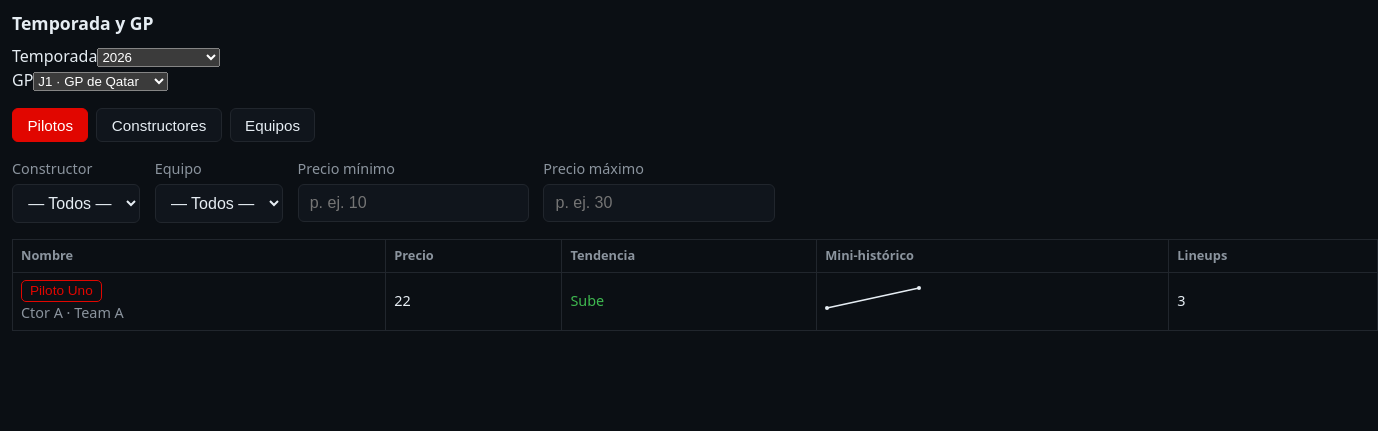
MercadoPage (US-14) › si el activo sale de la lista y el detalle no ha cargado, el título cae al ID
The width and height of the screenshot is (1378, 431).
Click the button "Piloto Uno" at (61, 291), box [21, 280, 102, 302]
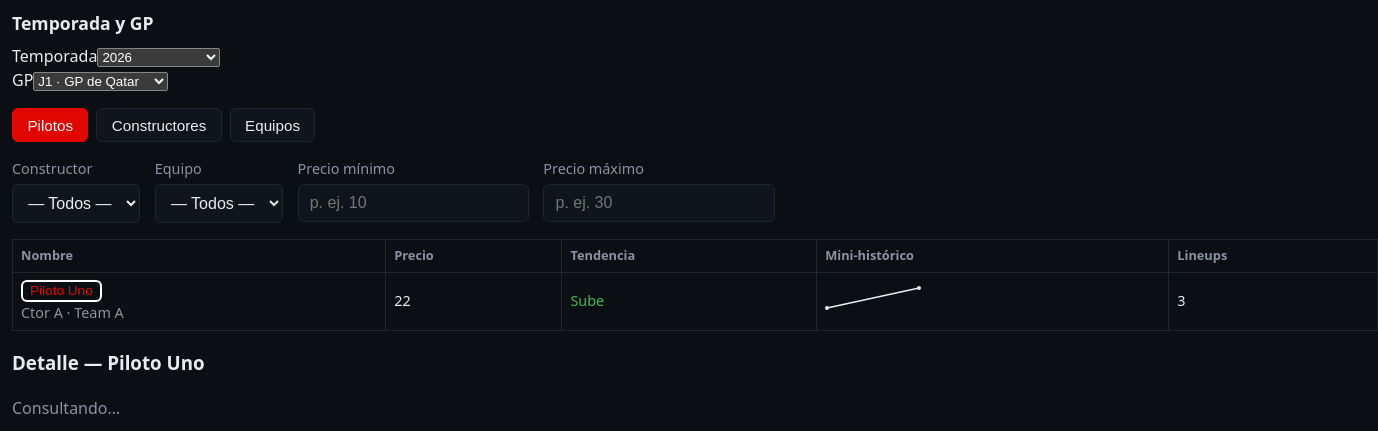
Now the heading "Detalle — Piloto Uno" is shown, box [12, 350, 204, 375]
Type "100" into the field labelled "Precio mínimo" at (413, 203), box [298, 184, 529, 222]
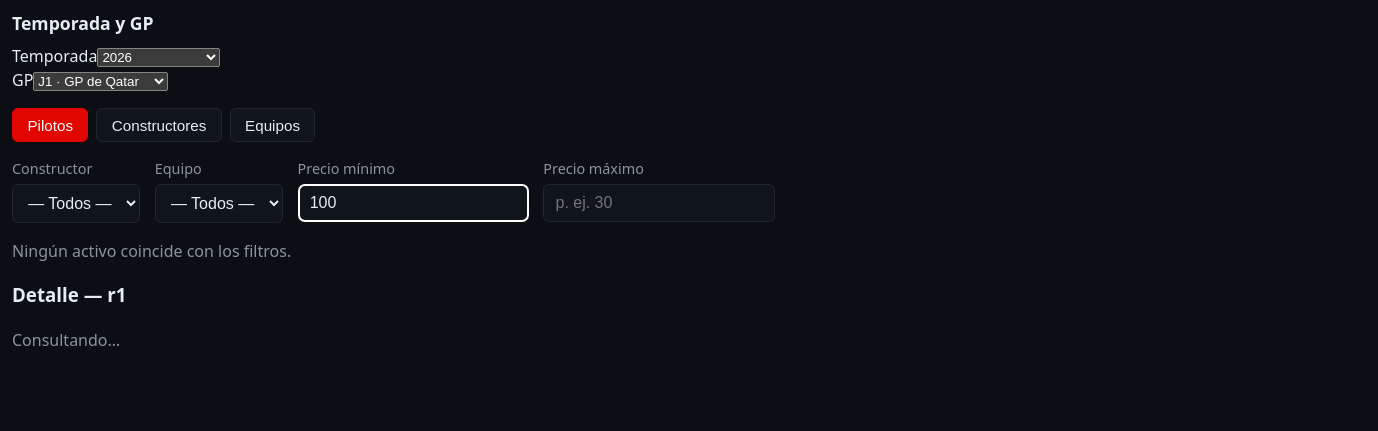
Now the heading "Detalle — r1" is shown, box [12, 282, 126, 308]
